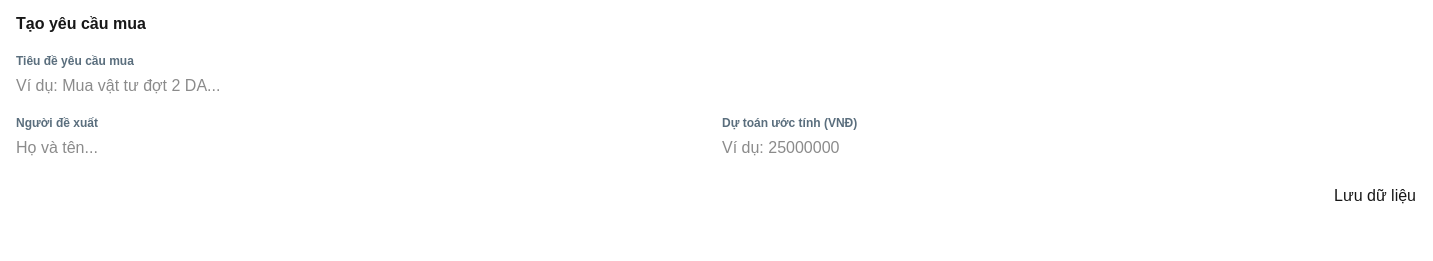
Test: components › FormComponent submit dữ liệu và hiển thị thông báo thành công
Type "Yêu cầu kiểm thử" into the field with placeholder "Ví dụ: Mua vật tư đợt 2 DA..." at (120, 86), box [16,74,223,98]
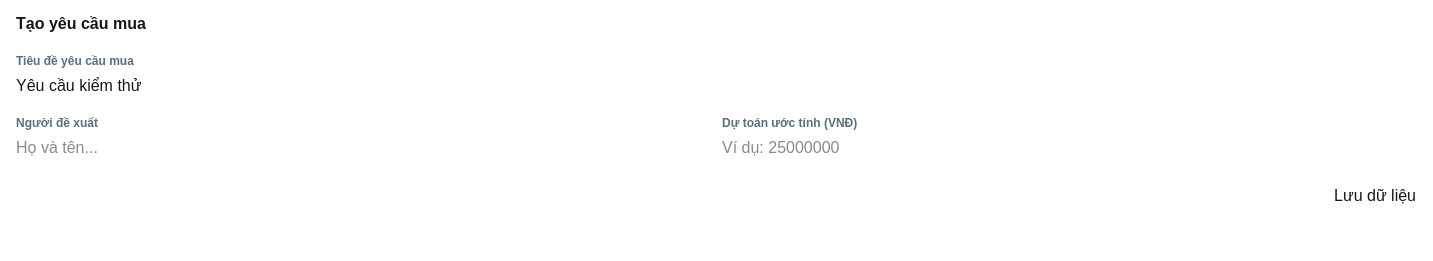
Type "Nguyễn Văn A" into the field with placeholder "Họ và tên..." at (120, 148), box [16,136,223,160]
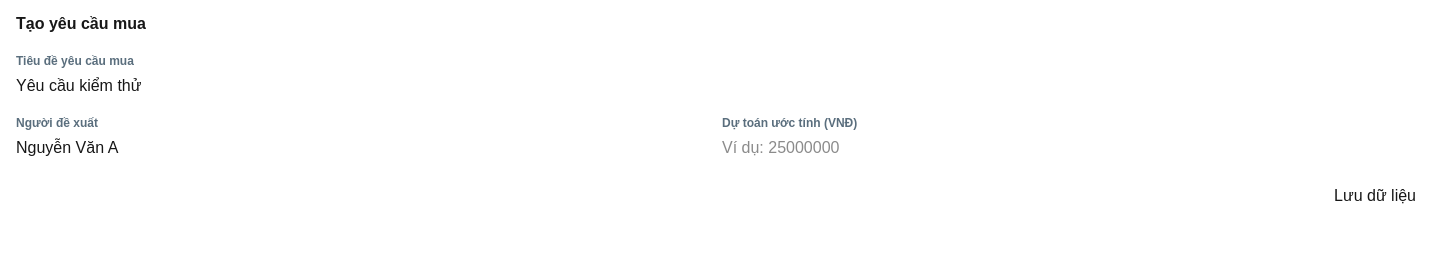
Click the button "Lưu dữ liệu" at (1375, 196), box [1334,184,1416,208]
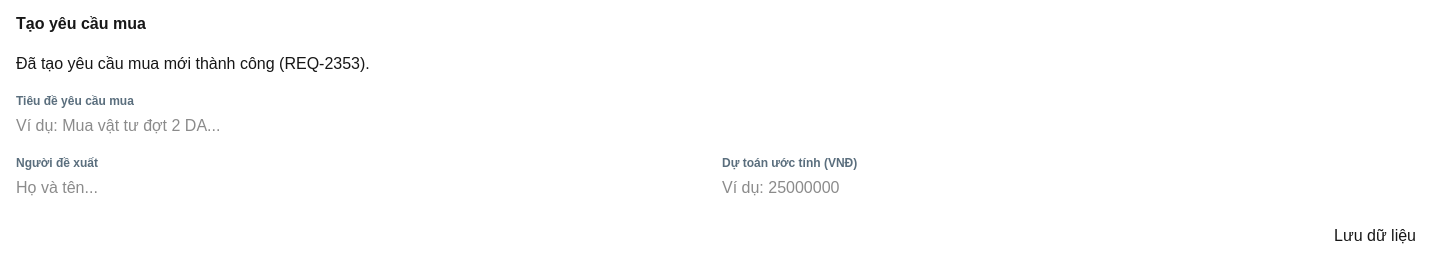
Expected: the text "Đã tạo yêu cầu mua mới thành công (REQ-2353)." is shown, [16,55,370,72]
